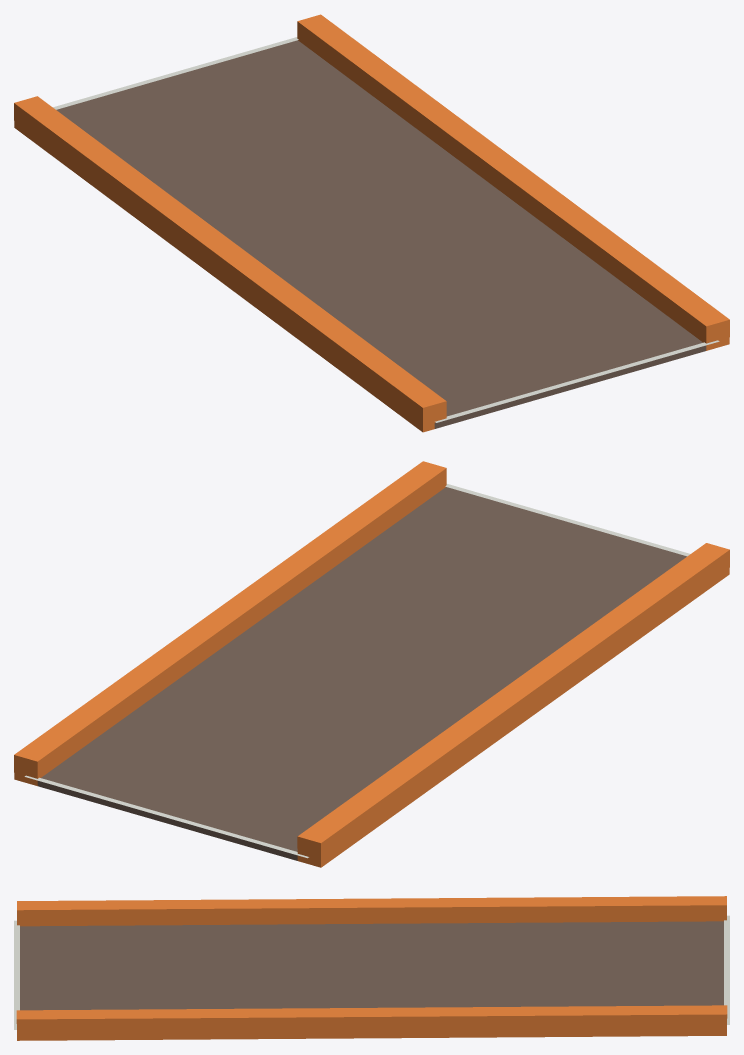
File: SM_MP_Film_C_4_2.fbx
3 renders of one model, top to bottom at view 1: azimuth 30°, elevation 25°; view 2: azimuth 150°, elevation 25°; view 3: azimuth 270°, elevation 25°, orthographic. The views are drawn at different scales.
Parts seen in each view (by area): view 1: SM_MP_Film_C_4_2; view 2: SM_MP_Film_C_4_2; view 3: SM_MP_Film_C_4_2.
Part boxes in pixels (x1,y1,x2,y2): SM_MP_Film_C_4_2: [14, 14, 729, 432]; SM_MP_Film_C_4_2: [14, 461, 729, 867]; SM_MP_Film_C_4_2: [14, 896, 729, 1040].
Size of what is drawn, in the model's own units: 260 by 605 by 35.58.
